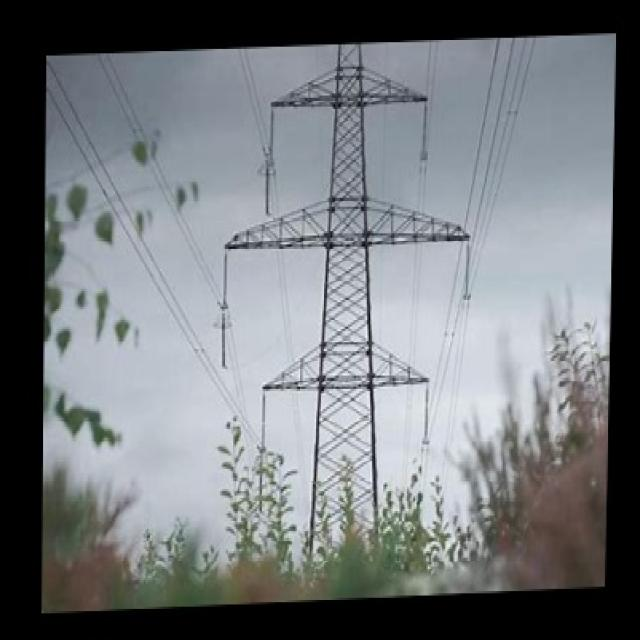utility poles: (233, 348, 441, 594)
